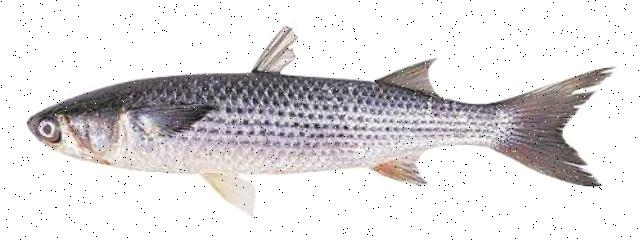Mulut: (23, 109, 49, 152)
Sirip Anal: (365, 139, 433, 193)
Sirip Dada: (130, 93, 216, 143)
Sirip Ekor: (508, 59, 616, 192)
Sirip Perut: (198, 163, 262, 221)
Sirip Punggung: (251, 19, 449, 101)
